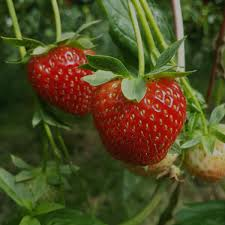ripe: (97, 65, 187, 165), (27, 36, 110, 118)
unripe: (122, 133, 182, 182), (185, 128, 224, 185)
